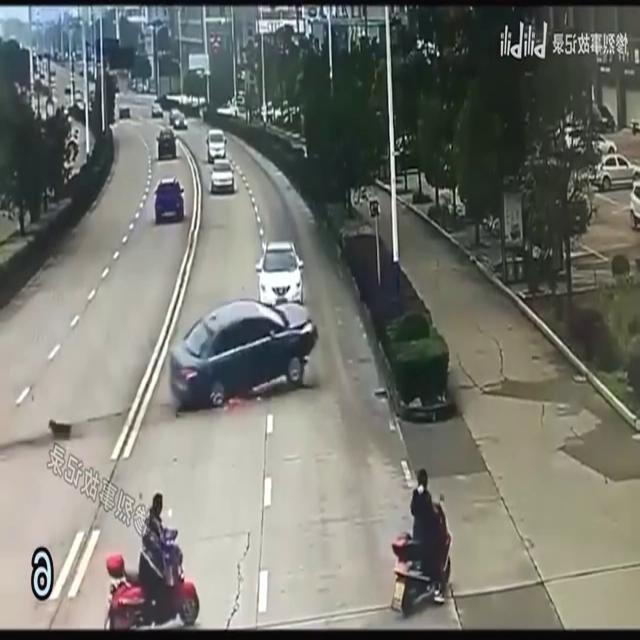accident: (43, 300, 320, 450)
non-accident: (552, 127, 640, 233), (206, 129, 234, 193), (157, 108, 187, 160), (150, 100, 188, 128)
